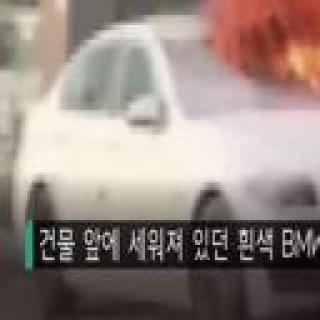fire: (232, 0, 320, 85)
